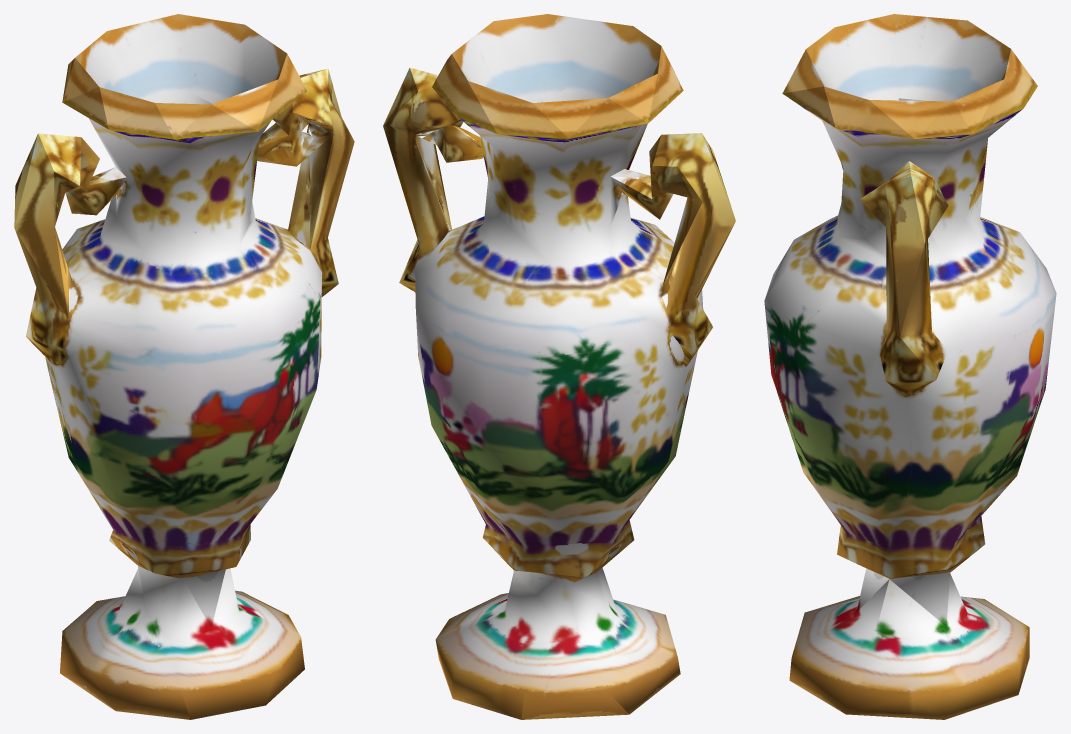
Rendered from porcelain-urn-vase.glb.
3 renders of one model, left to right at view 1: azimuth 30°, elevation 25°; view 2: azimuth 150°, elevation 25°; view 3: azimuth 270°, elevation 25°, orthographic.
Visible parts, largest first — view 1: geometry_0.001; view 2: geometry_0.001; view 3: geometry_0.001.
Boxes of the visible parts, box(x1,y1,x2,y2) form: geometry_0.001: box(14, 14, 354, 719); geometry_0.001: box(383, 14, 735, 719); geometry_0.001: box(764, 14, 1056, 719).
Bounding box in the file's own units: 0.5826 × 1 × 0.4336.
Materials: 1 (1 with a texture image).
